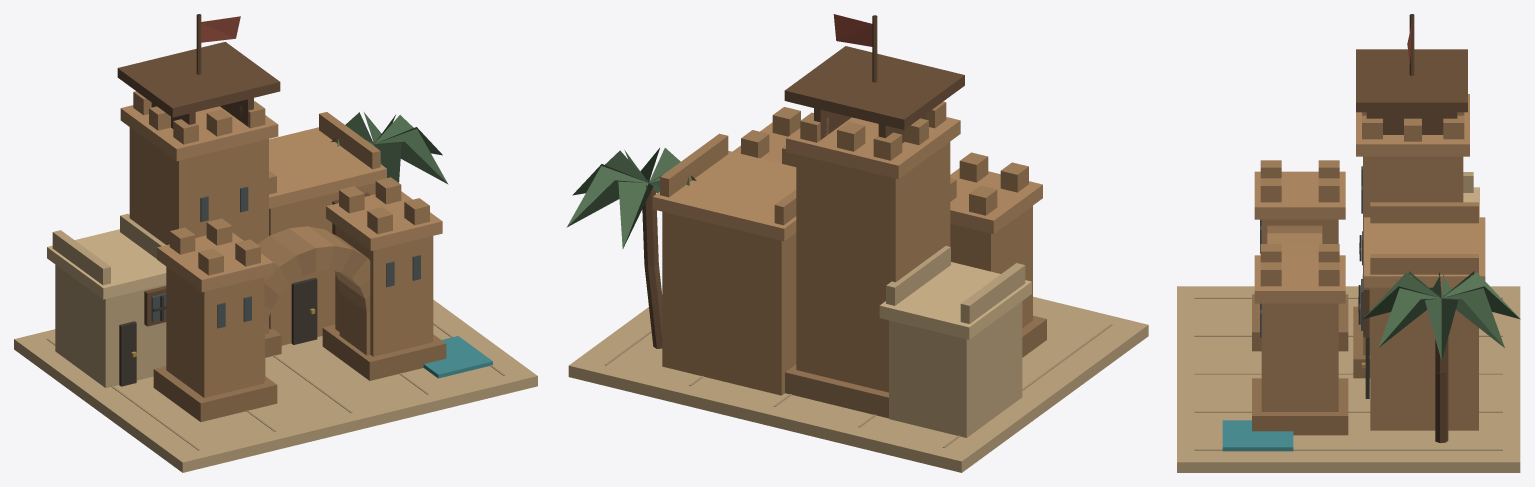
3 views of the same model, side by side, from view 1: azimuth 30°, elevation 25°; view 2: azimuth 150°, elevation 25°; view 3: azimuth 270°, elevation 25° (orthographic). The views are drawn at different scales.
Parts seen in each view (by area): view 1: S27_盘橐城 · 绿洲宫城; view 2: S27_盘橐城 · 绿洲宫城; view 3: S27_盘橐城 · 绿洲宫城.
Part boxes in pixels (x1=…): S27_盘橐城 · 绿洲宫城: x1=14, y1=14, x2=537, y2=472; S27_盘橐城 · 绿洲宫城: x1=566, y1=14, x2=1148, y2=472; S27_盘橐城 · 绿洲宫城: x1=1177, y1=14, x2=1520, y2=472.
Bounding box in the file's own units: 4.34 × 3.63 × 3.26.
